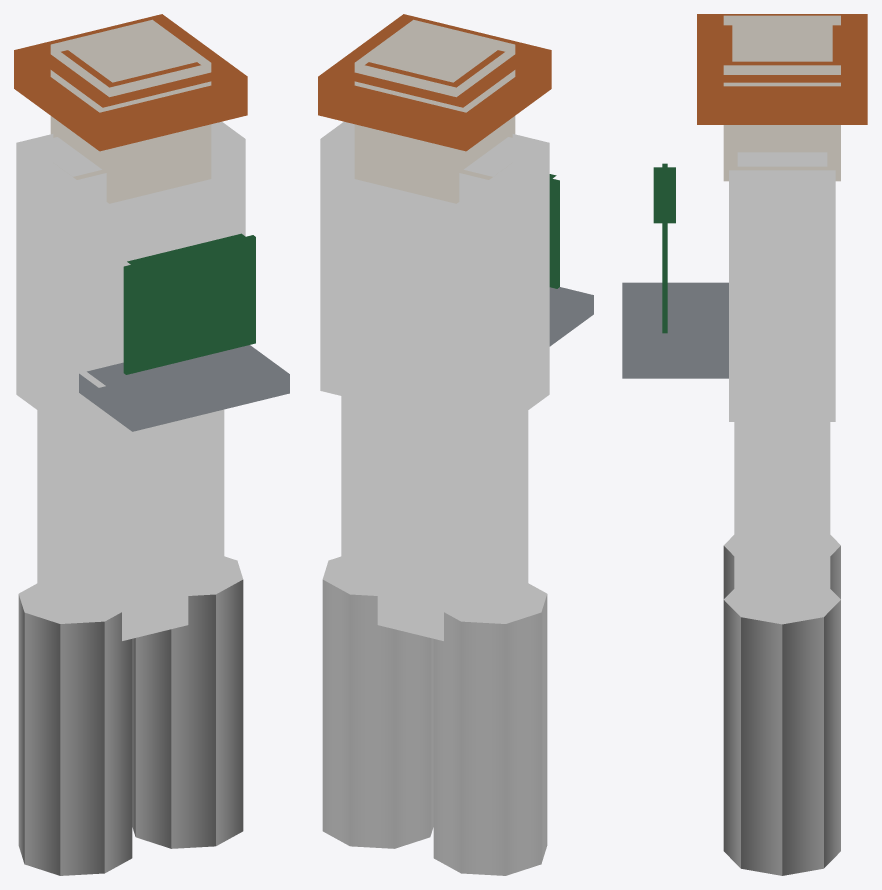
File: staff-engineer-work.obj
3 views of the same model, side by side, from view 1: azimuth 30°, elevation 25°; view 2: azimuth 150°, elevation 25°; view 3: azimuth 270°, elevation 25° (orthographic).
Visible parts, largest first — view 1: staff-engineer-work; view 2: staff-engineer-work; view 3: staff-engineer-work.
Boxes of the visible parts, <box> form: staff-engineer-work: <box>14,14,289,875</box>; staff-engineer-work: <box>318,14,593,875</box>; staff-engineer-work: <box>622,14,867,875</box>.
Bounding box in the file's own units: 0.46 × 1.62 × 0.46.
